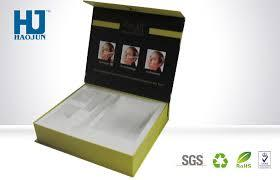Cardboard: (32, 4, 173, 180)
